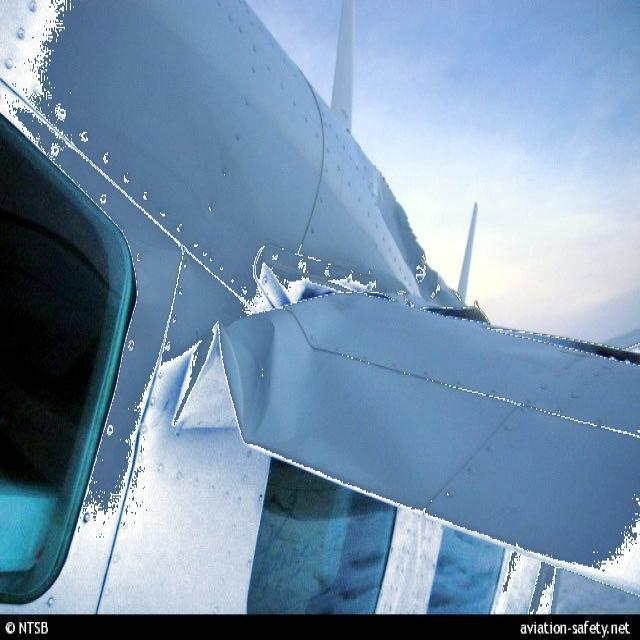dent: (165, 307, 279, 453)
